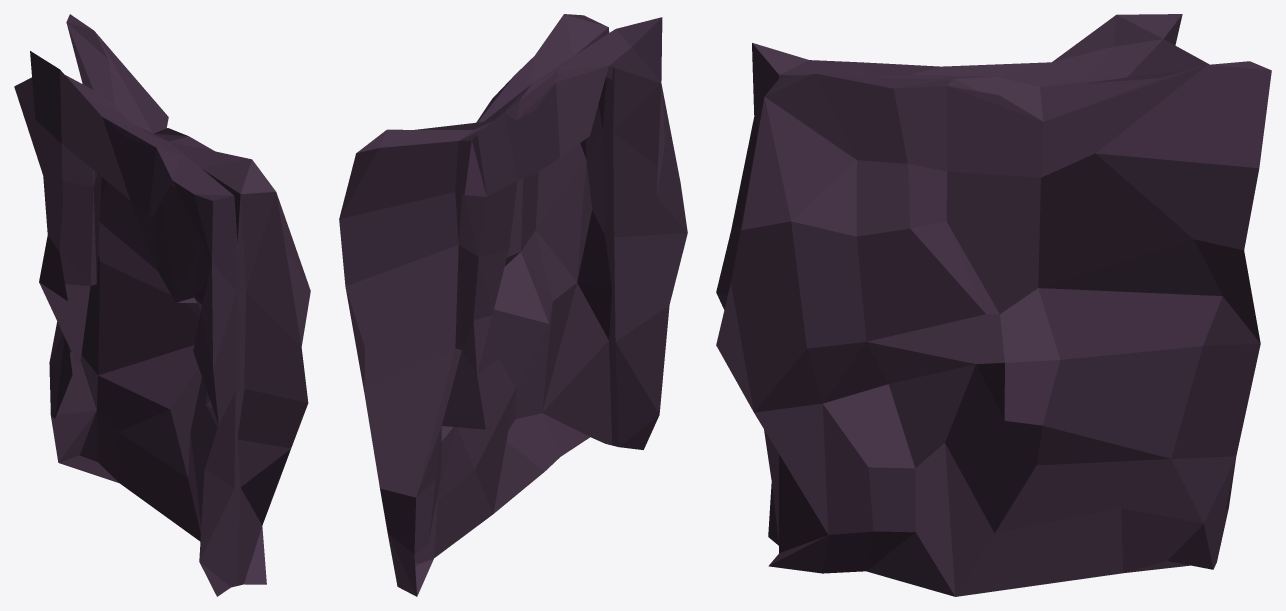
File: wall2_1.fbx
3 renders of one model, left to right at view 1: azimuth 30°, elevation 25°; view 2: azimuth 150°, elevation 25°; view 3: azimuth 270°, elevation 25°, orthographic. The views are drawn at different scales.
Visible parts, largest first — view 1: Cube.1147; view 2: Cube.1147; view 3: Cube.1147.
Part boxes in pixels (bbox=[...]): Cube.1147: bbox=[14, 14, 310, 596]; Cube.1147: bbox=[339, 14, 687, 596]; Cube.1147: bbox=[716, 14, 1271, 596].
Size of the model in its own units: 546 by 1704 by 1598.
